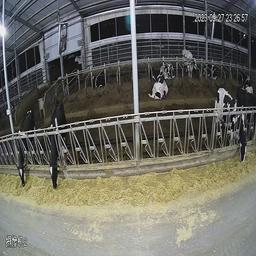cow: (210, 81, 248, 169), (11, 104, 40, 202), (45, 96, 71, 202), (147, 64, 171, 107), (181, 42, 199, 84), (86, 65, 108, 96), (159, 53, 180, 83), (203, 53, 220, 79)
